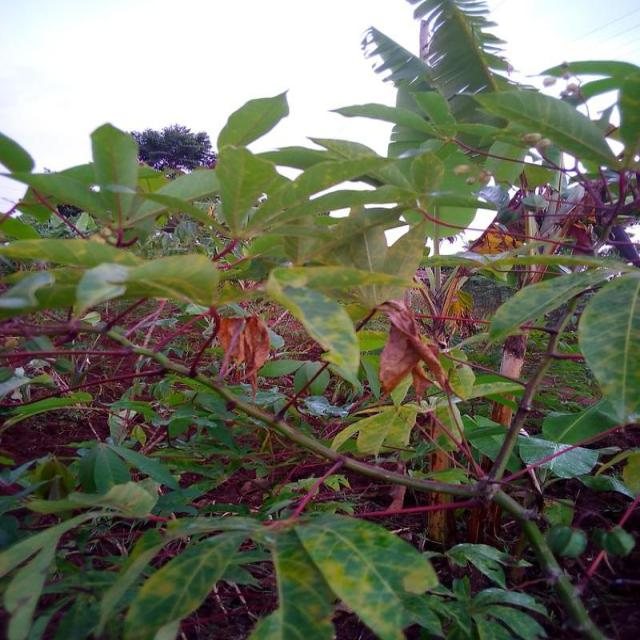cassava leaf: (578, 268, 640, 426)
